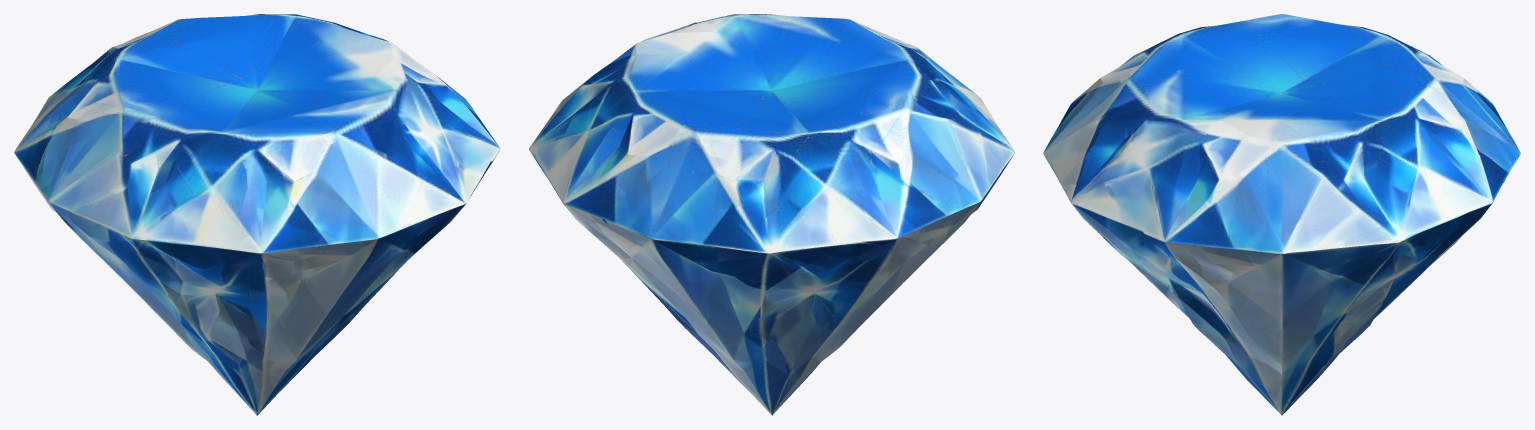
Rendered from diamond.glb.
The picture shows the model from 3 angles, left to right: view 1: azimuth 30°, elevation 25°; view 2: azimuth 150°, elevation 25°; view 3: azimuth 270°, elevation 25°; orthographic projection.
Bounding box in the file's own units: 1.9 × 1.48 × 1.9.
1 material, 1 textured.
